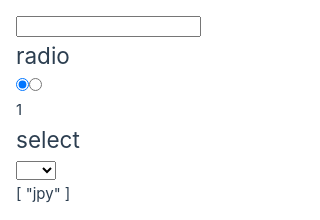
Scenario: Form › select
This screenshot has width=320, height=220.
Select "uk" in the dropdown with test id "select-country" at (36, 170), box x1=16 y1=161 x2=56 y2=180
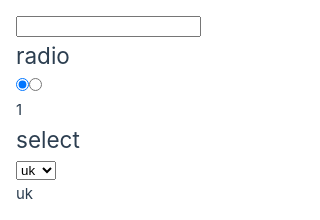
Expected: the text "uk" is shown, x1=16 y1=184 x2=33 y2=203
